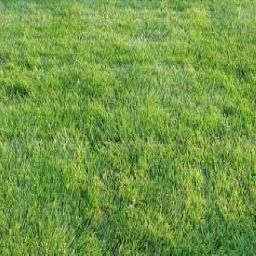grass: (2, 3, 252, 251)
